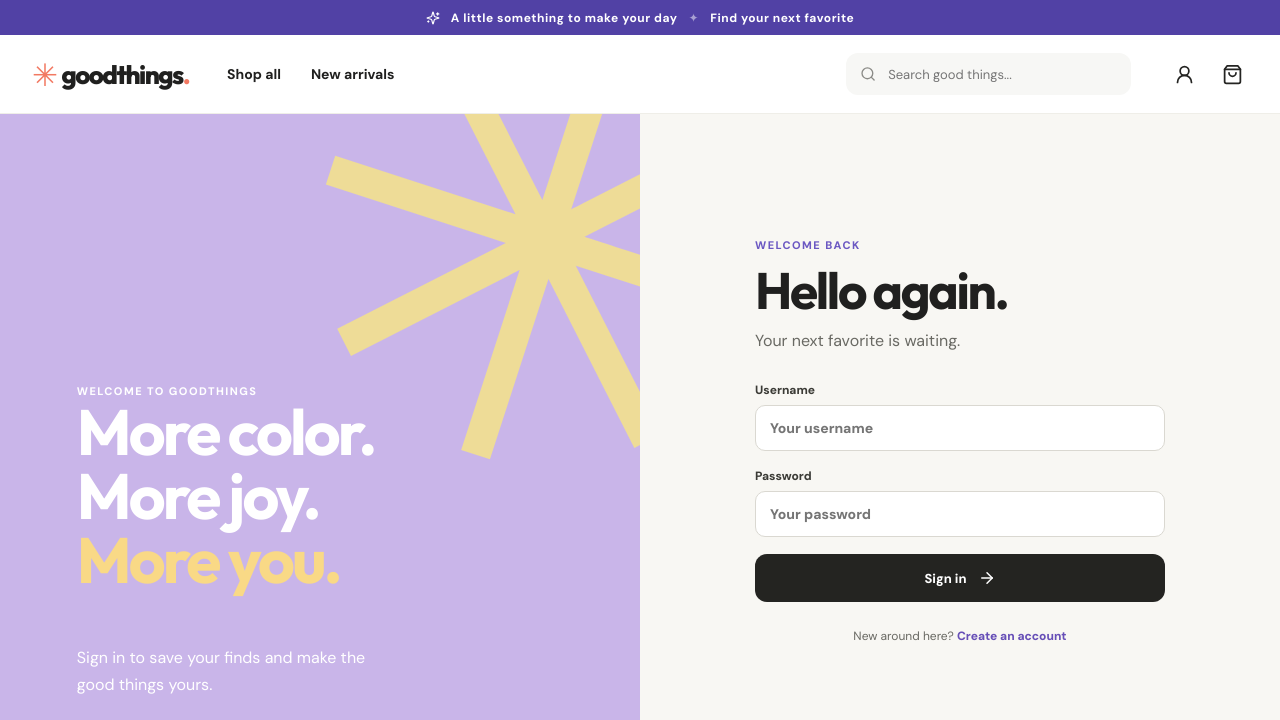
Scenario: storefront flows › routes an admin account into the management panel after sign-in
Type "admin" into the field labelled "Username" at (960, 428), box 755,405 -> 1165,451
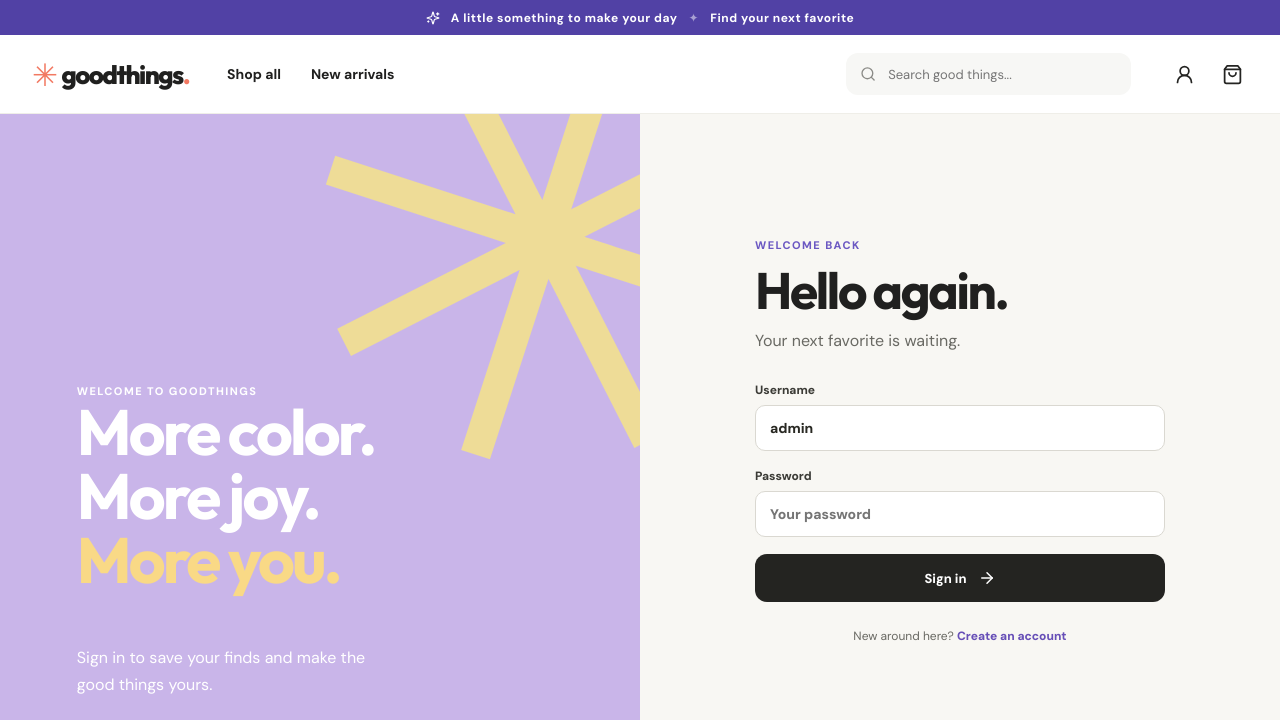
Type "adminpass" into the password field labelled "Password" at (960, 514), box 755,491 -> 1165,537
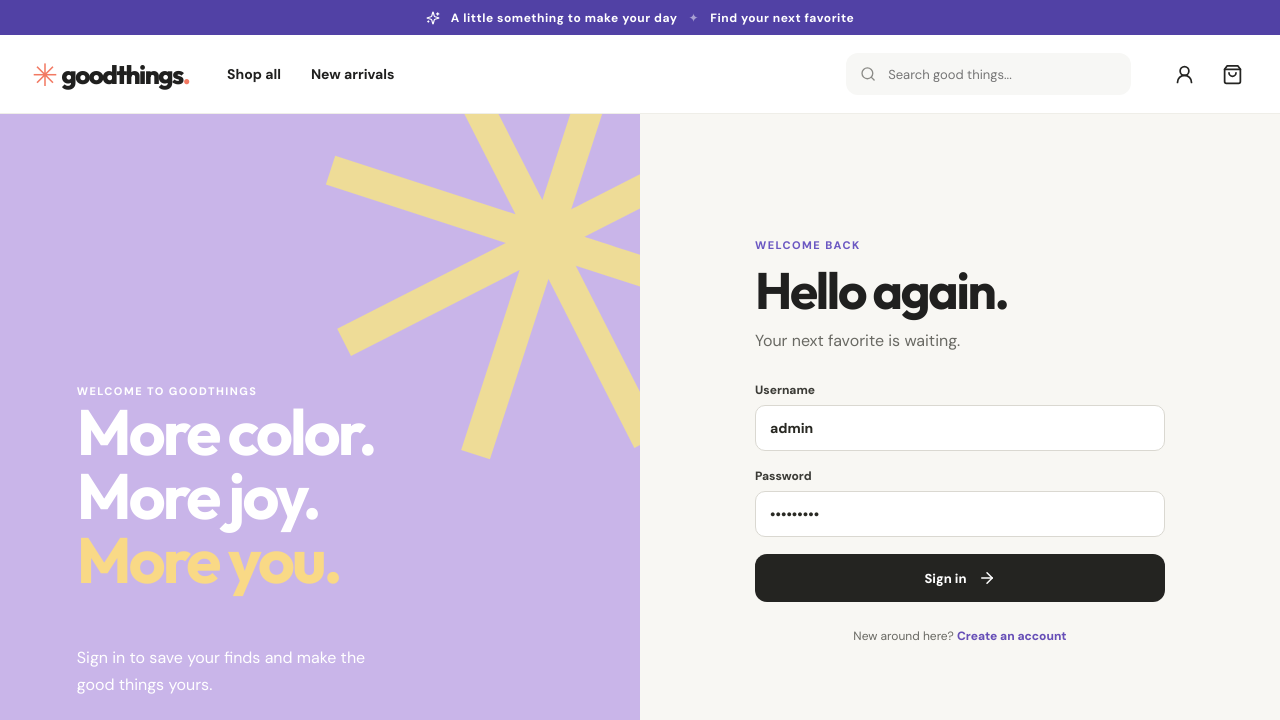
Click the button "Sign in" at (960, 578), box 755,554 -> 1165,602
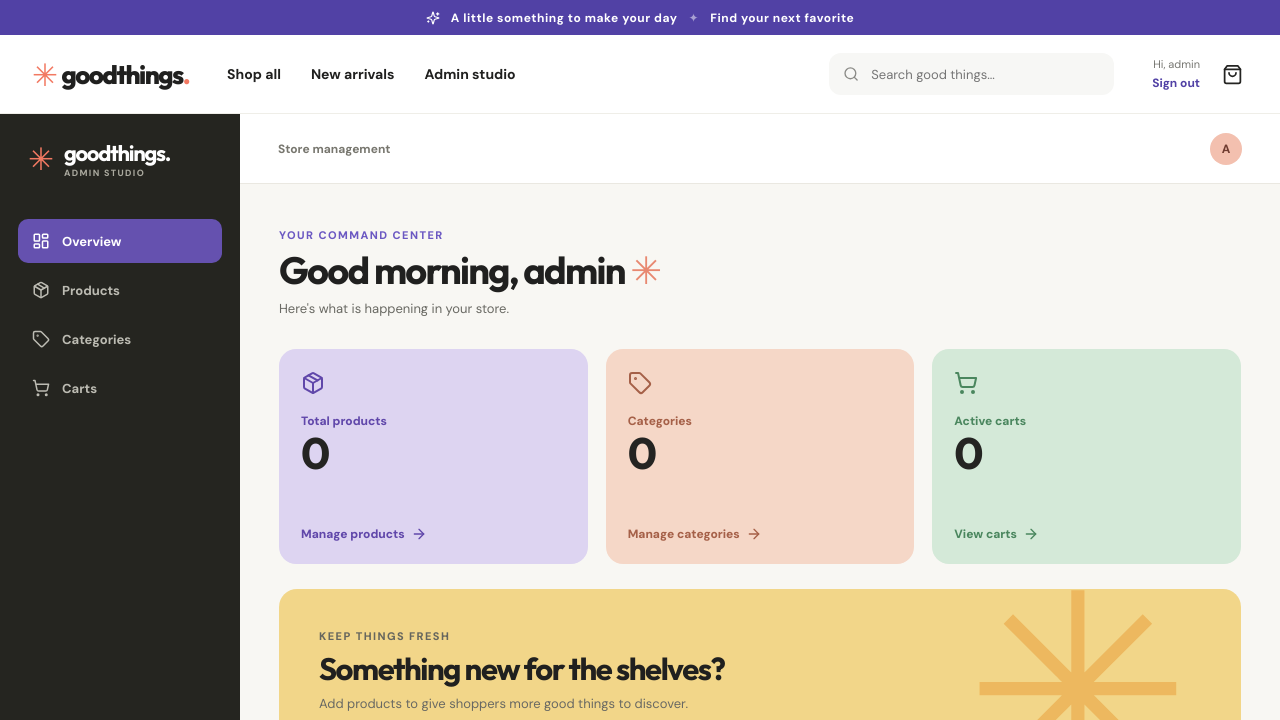
Check: the heading "Good morning, admin ✳" is shown, box 279,246 -> 660,294
